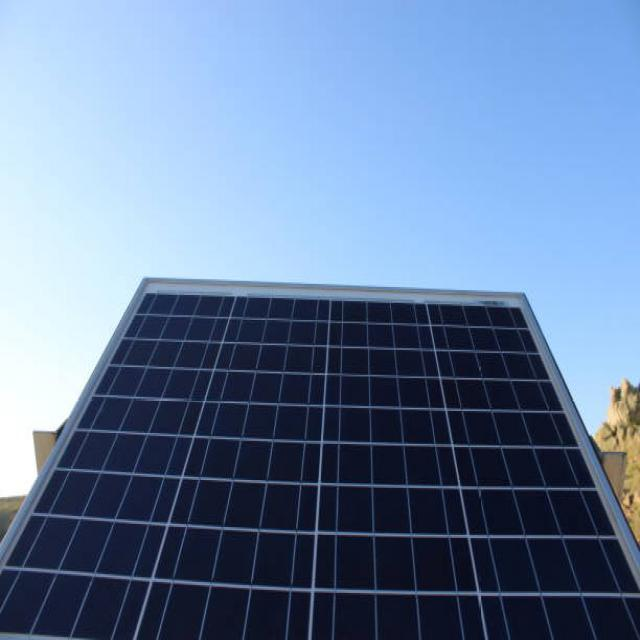faulty: (0, 280, 640, 637)
